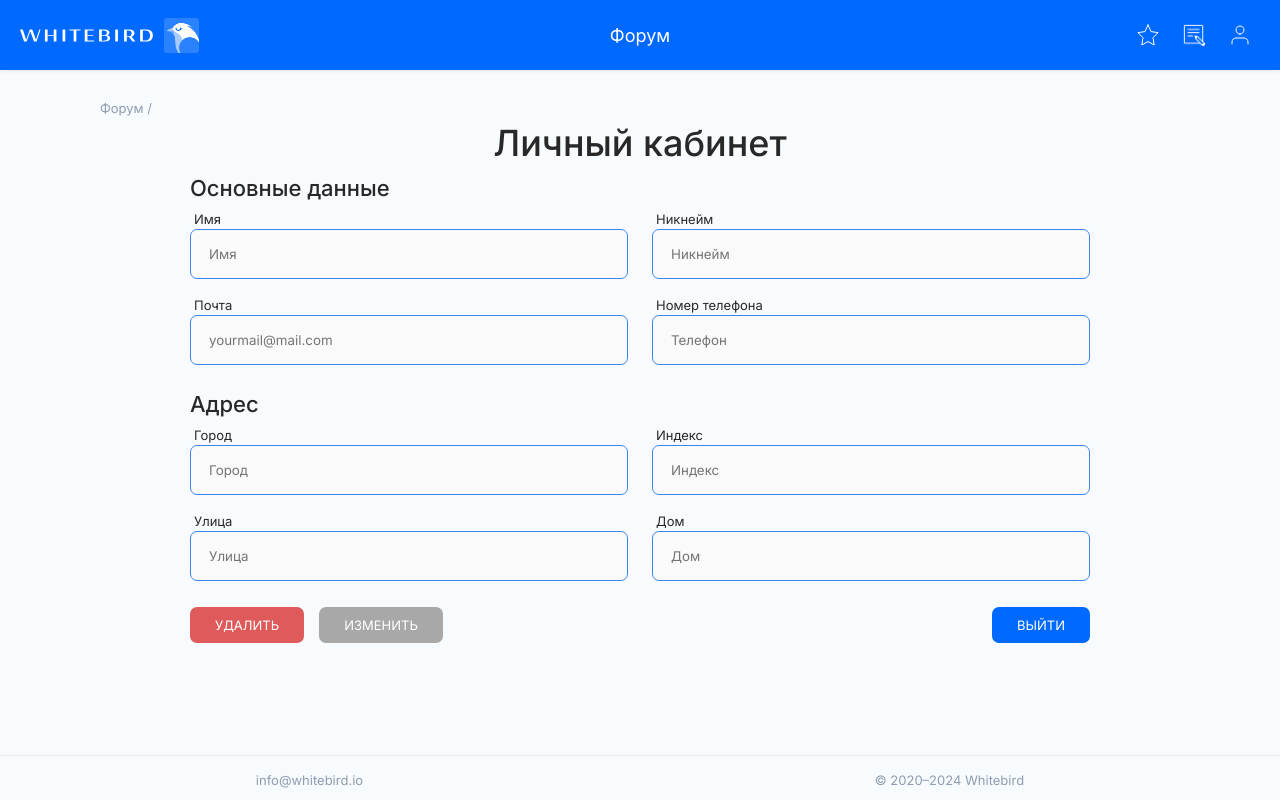
AccountPage › should close modalConfirm after click on cross icon
Click the button "Удалить".
click(247, 625)  # box 190,607 -> 304,643
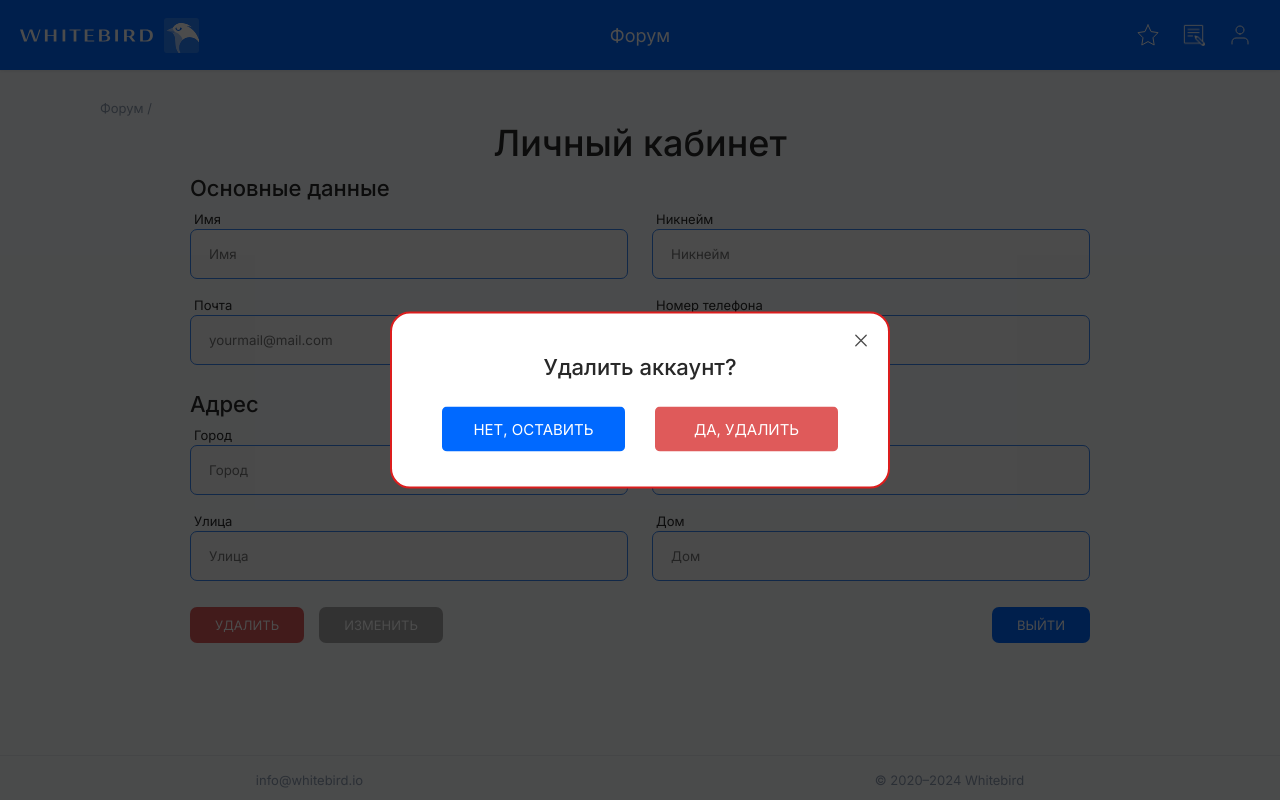
Result: the element with test id "modalConfirm" is shown at 442,354 -> 838,452
Click the picture with alt text "cross".
click(861, 340)  # box 844,324 -> 878,357
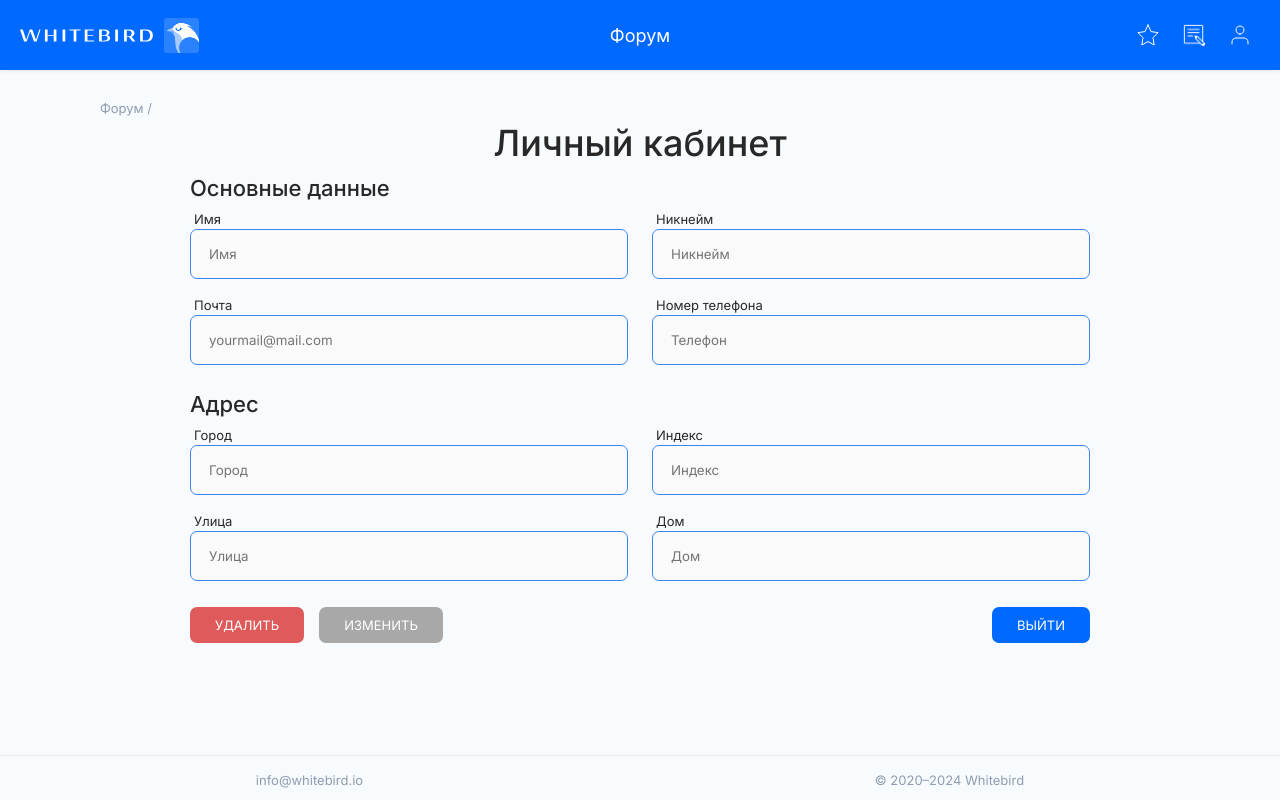
Result: the element with test id "modalConfirm" is gone
